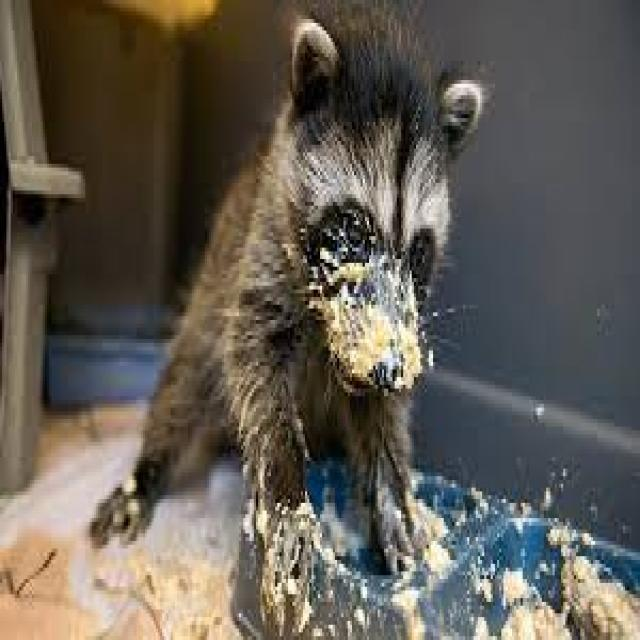Raccoon: (106, 16, 487, 585)
